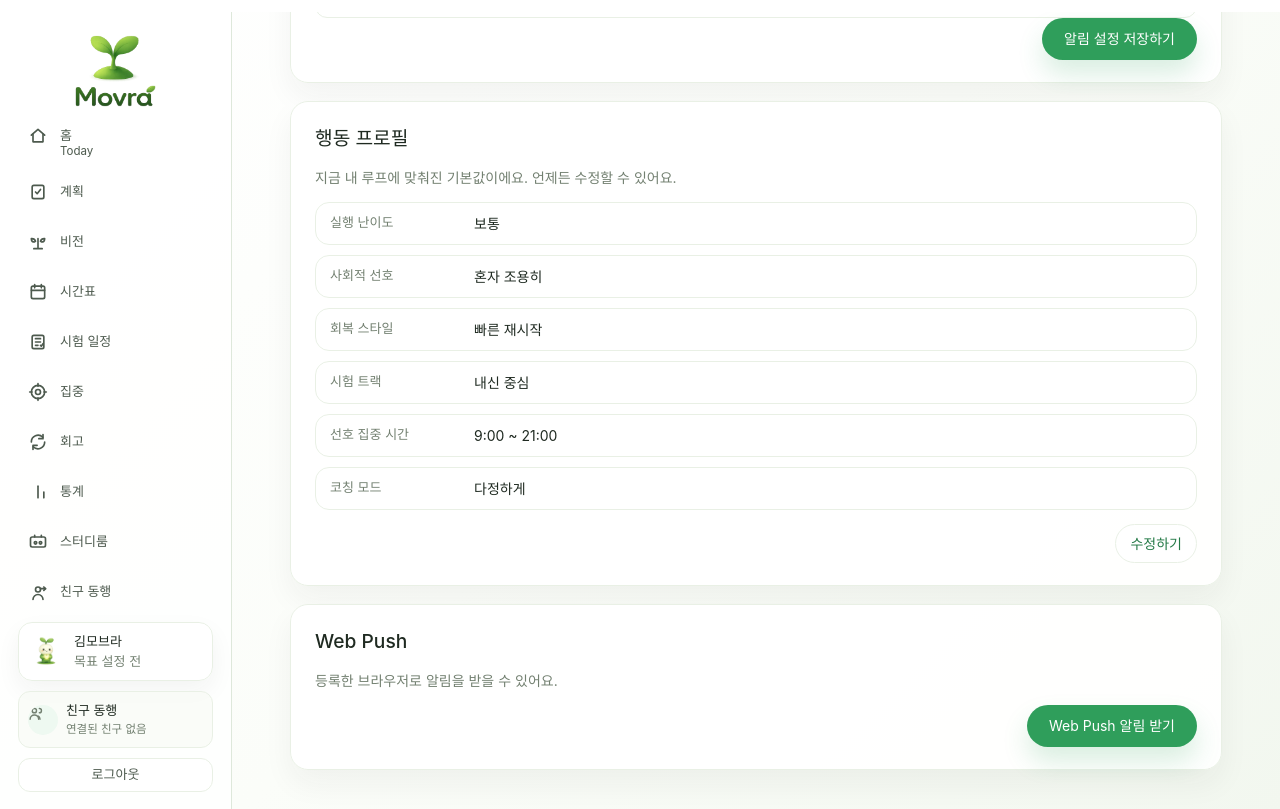
Test: SettingsPage web push section › surfaces an error when subscribe POST returns 400
This screenshot has width=1280, height=809.
(page scrolled)
Click the button "Web Push 알림 받기". click: (1112, 726)
box: [1027,704,1197,746]
(page scrolled)
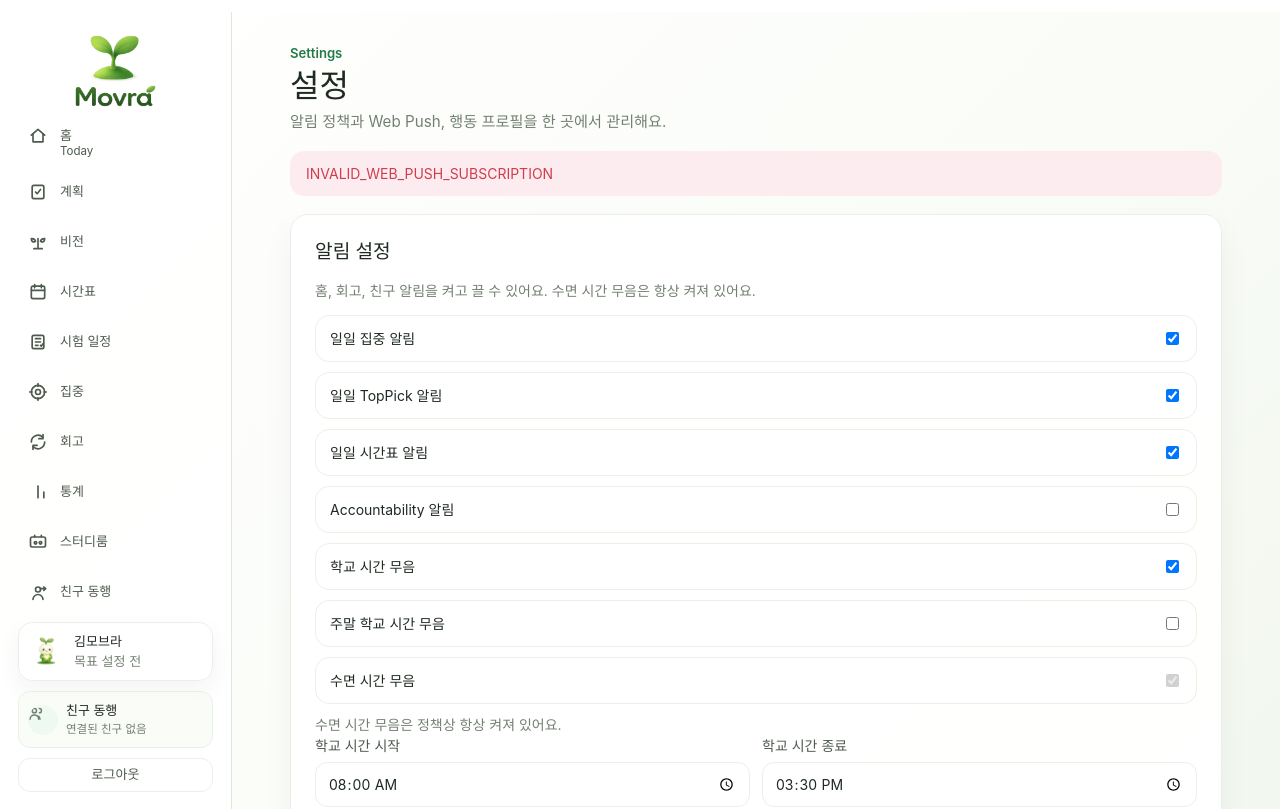
Now the text "INVALID_WEB_PUSH_SUBSCRIPTION" is shown, box [290,151,1222,196]
